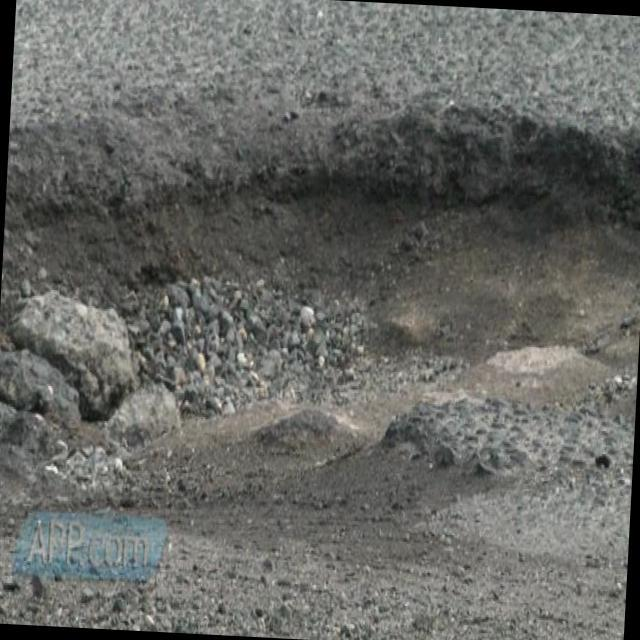Pothole: (3, 83, 640, 478)
